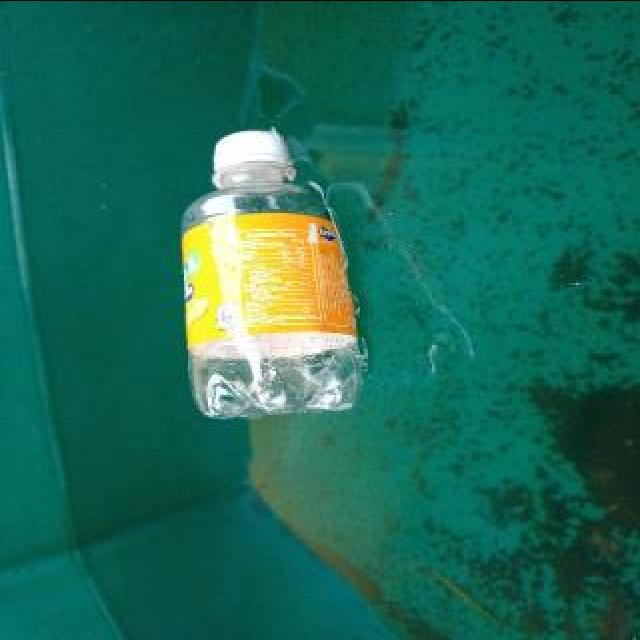Bottle: (180, 125, 368, 417)
